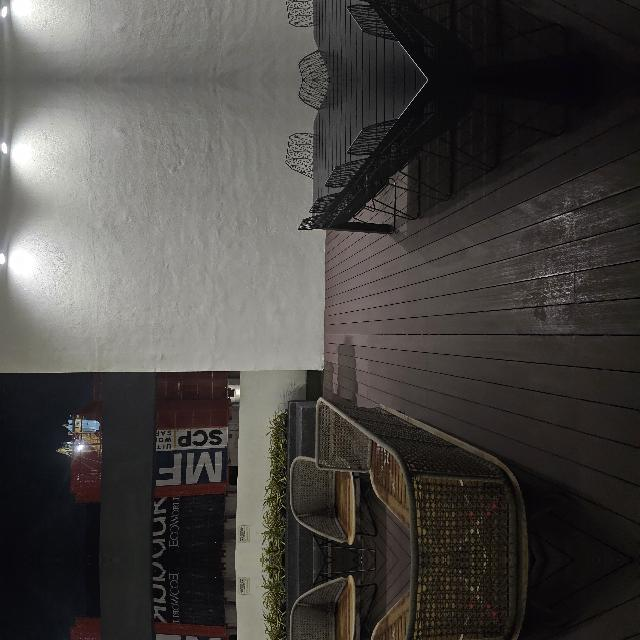obstacle: (0, 340, 164, 616), (319, 351, 477, 579), (0, 504, 164, 640), (319, 541, 477, 640)
